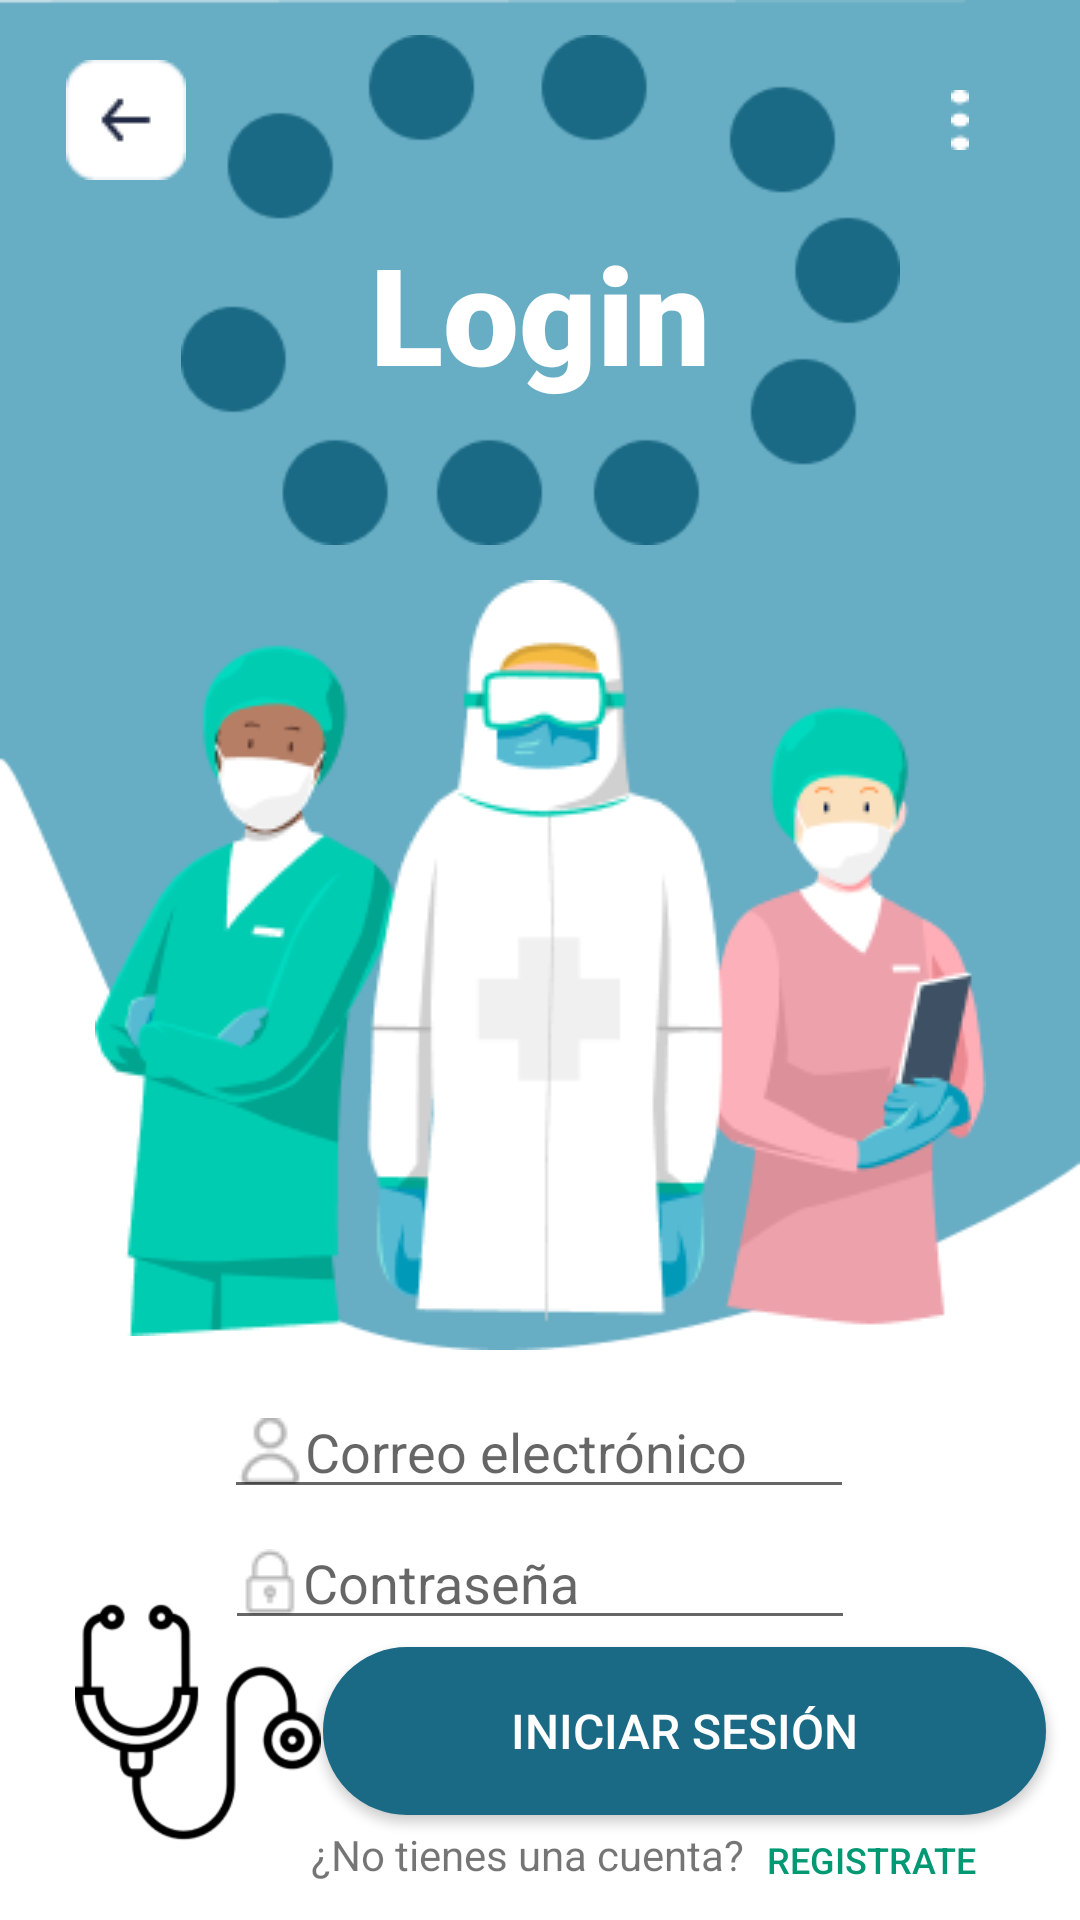

Where to tap for icons on this 1080w x 1920h app screen, as (x=x, y=y):
back: (x=126, y=120)
estetocopio: (x=198, y=1722)
